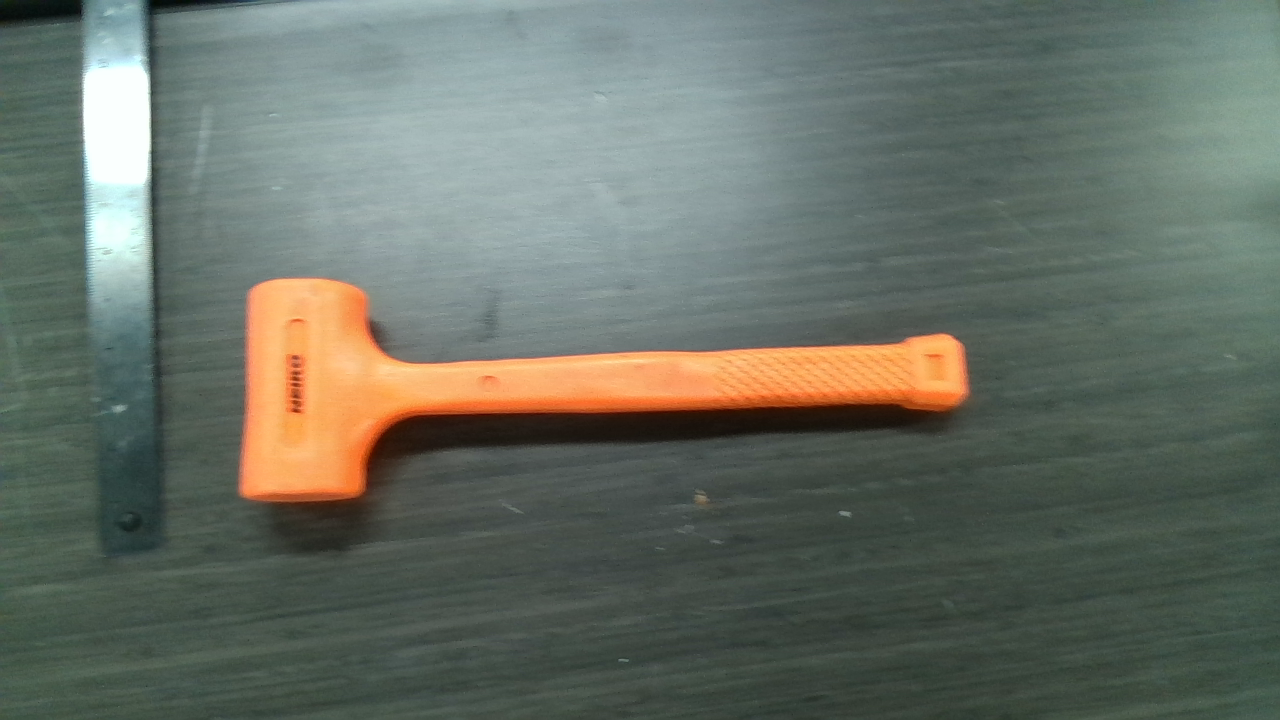Orange Hammer: (246, 279, 968, 501)
